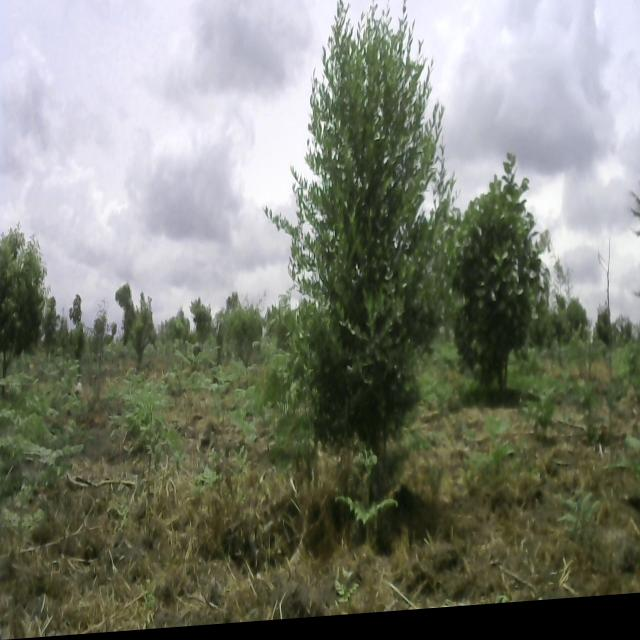Salix alba: (263, 0, 462, 532)
other: (451, 157, 551, 404), (0, 210, 53, 394)
